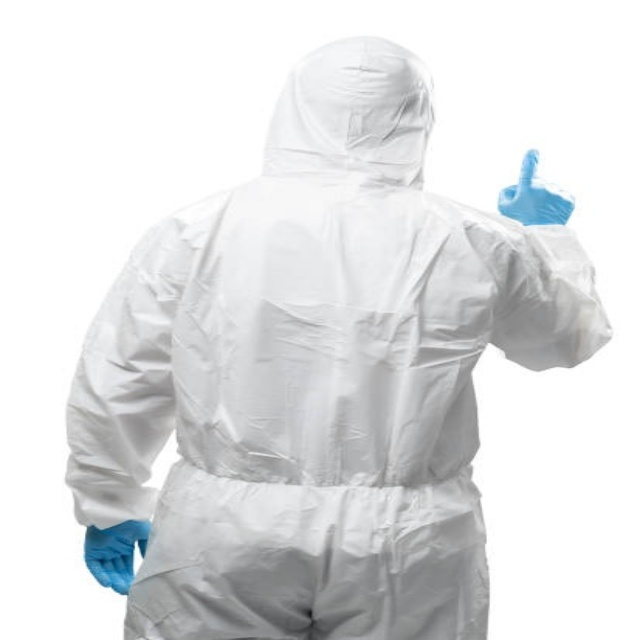Guantes: (499, 148, 576, 226), (84, 520, 149, 594)
